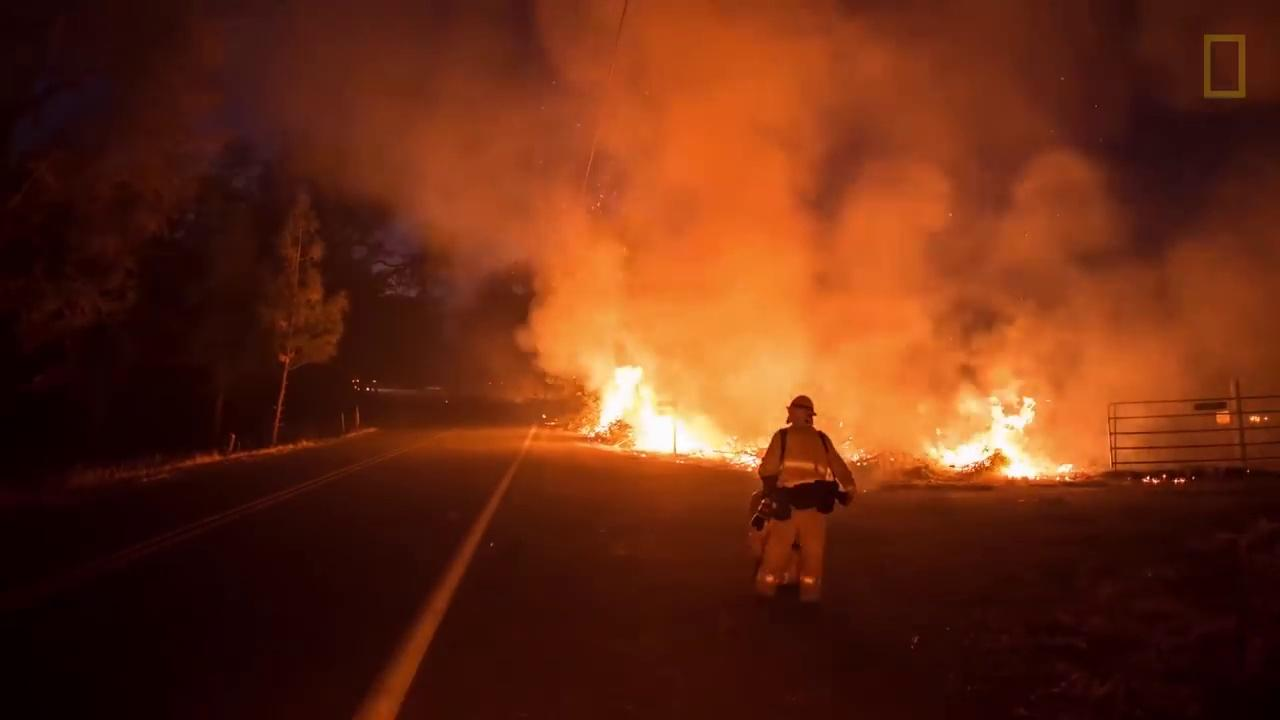Fire: (583, 367, 763, 473), (922, 397, 1078, 485)
